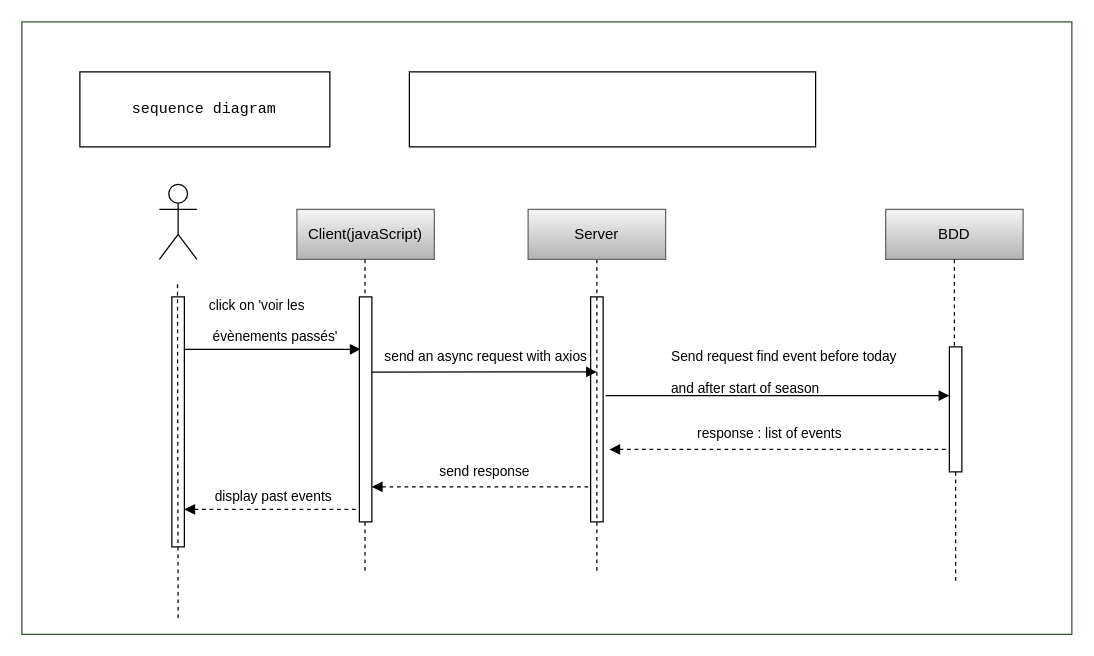
This 1094x656 diagram has some shape labels left out. The shapes that lost their labels are listed below. From the top down, each one's centre as x and y in pixels, then its label:
At pixel 612 109: "See past events of this season".
At pixel 177 221: "Visitor".
